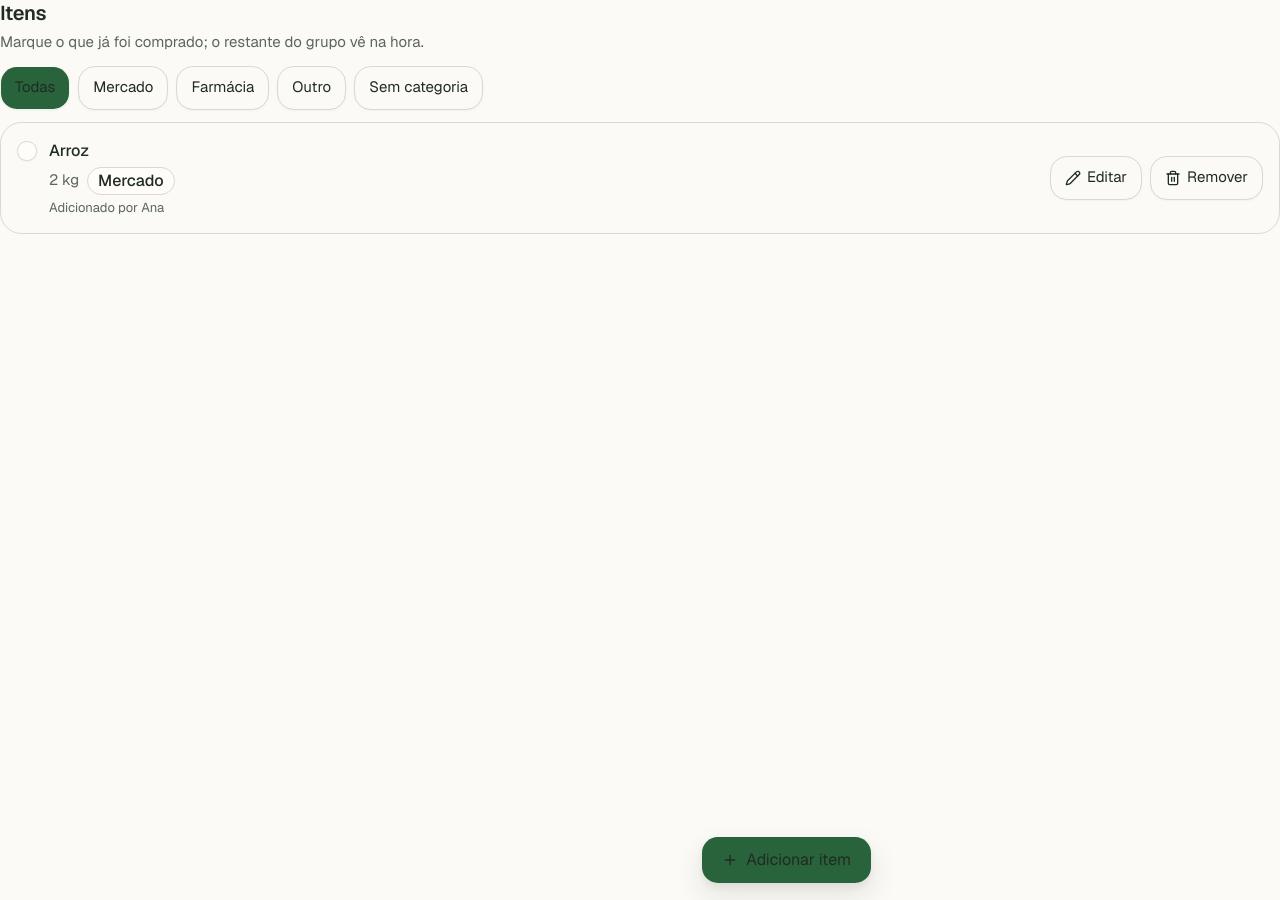
Test case: ListItemsPanel › keeps edit feedback mounted and rolls back a category change under an active filter
Click the button "Mercado": (123, 88) x1=78 y1=66 x2=168 y2=110
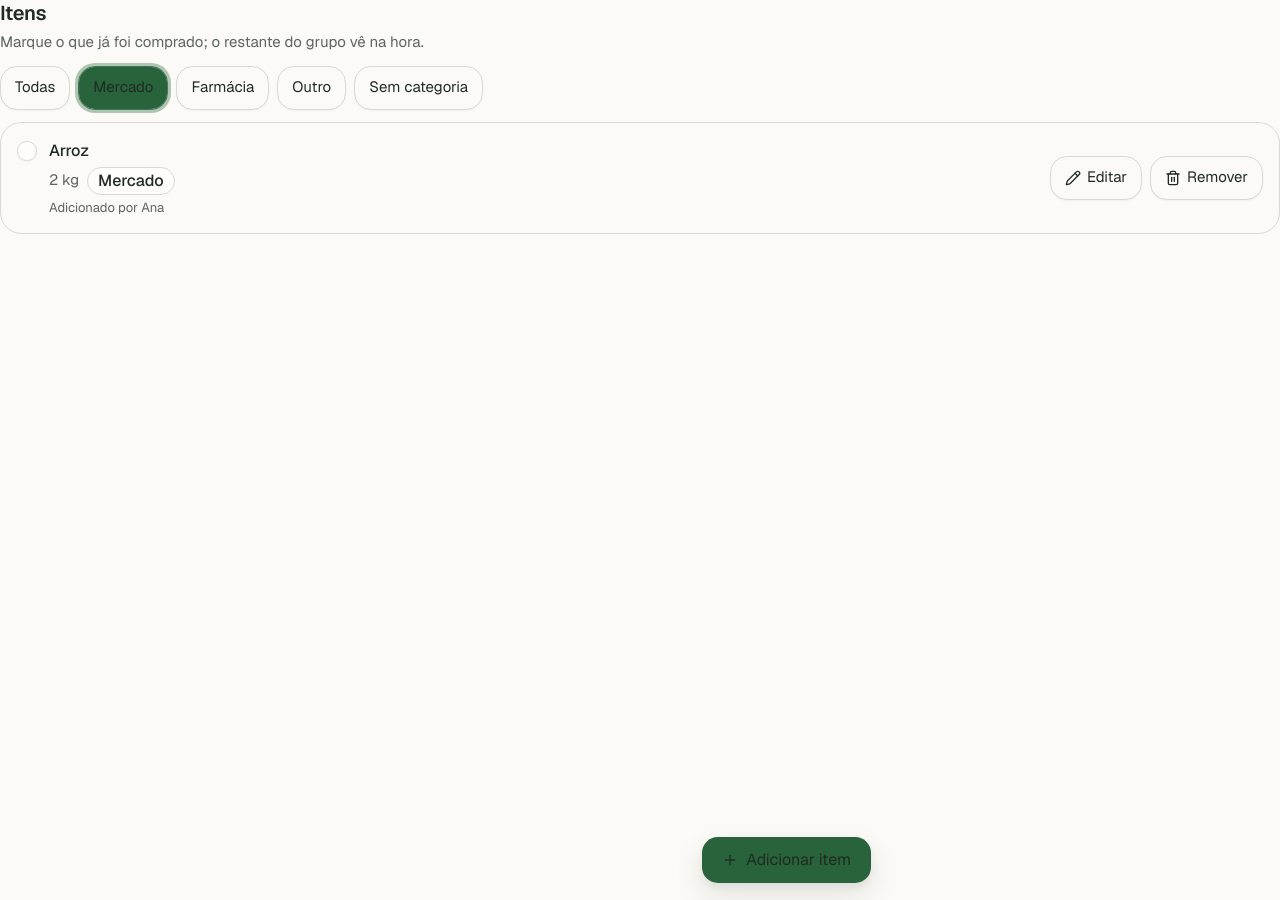
Click the button "Editar": (1096, 178) x1=1050 y1=156 x2=1142 y2=200
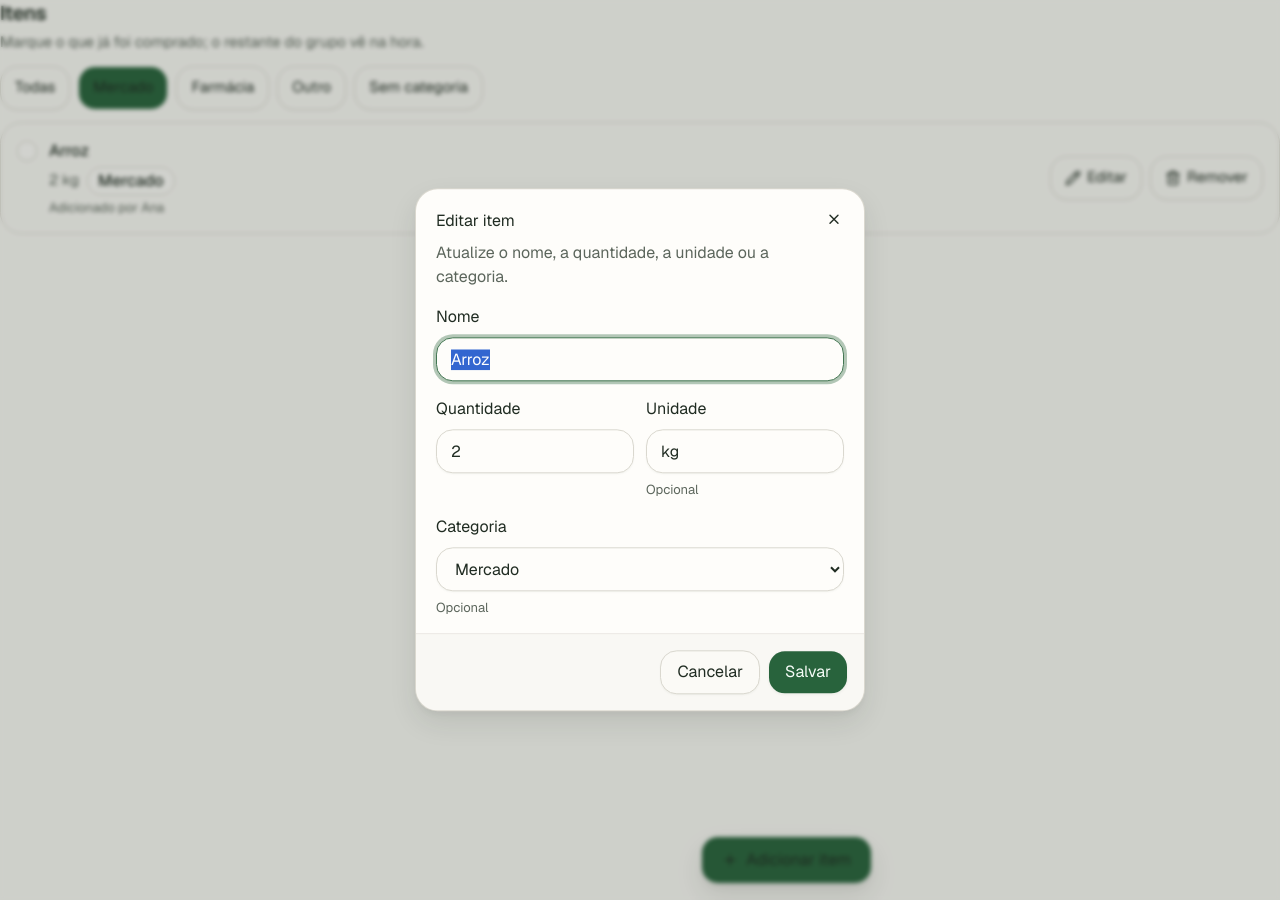
Select "Farmácia" in the dropdown labelled "Categoria": (640, 570) x1=436 y1=548 x2=844 y2=592
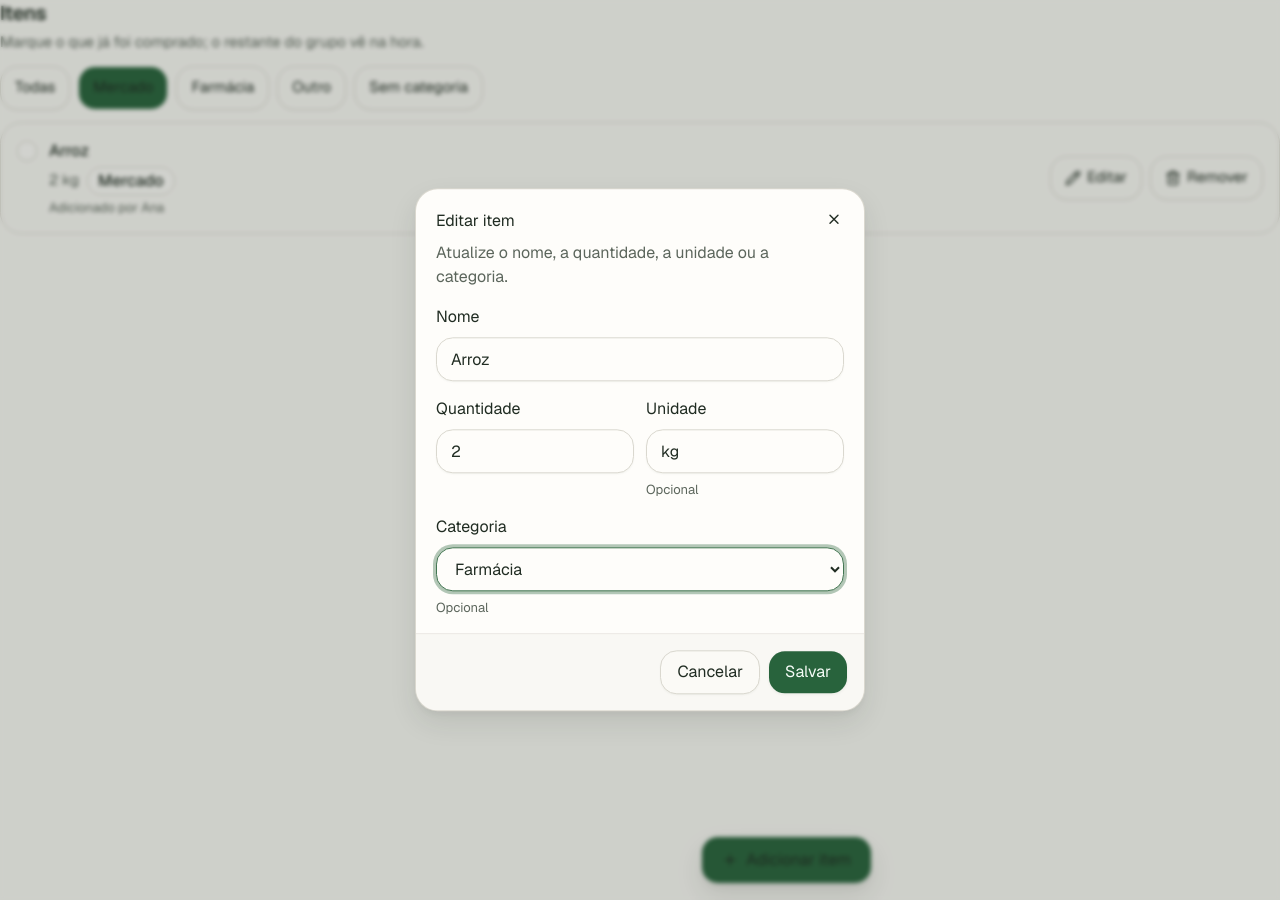
Click the button "Salvar": (808, 673) x1=768 y1=651 x2=848 y2=695
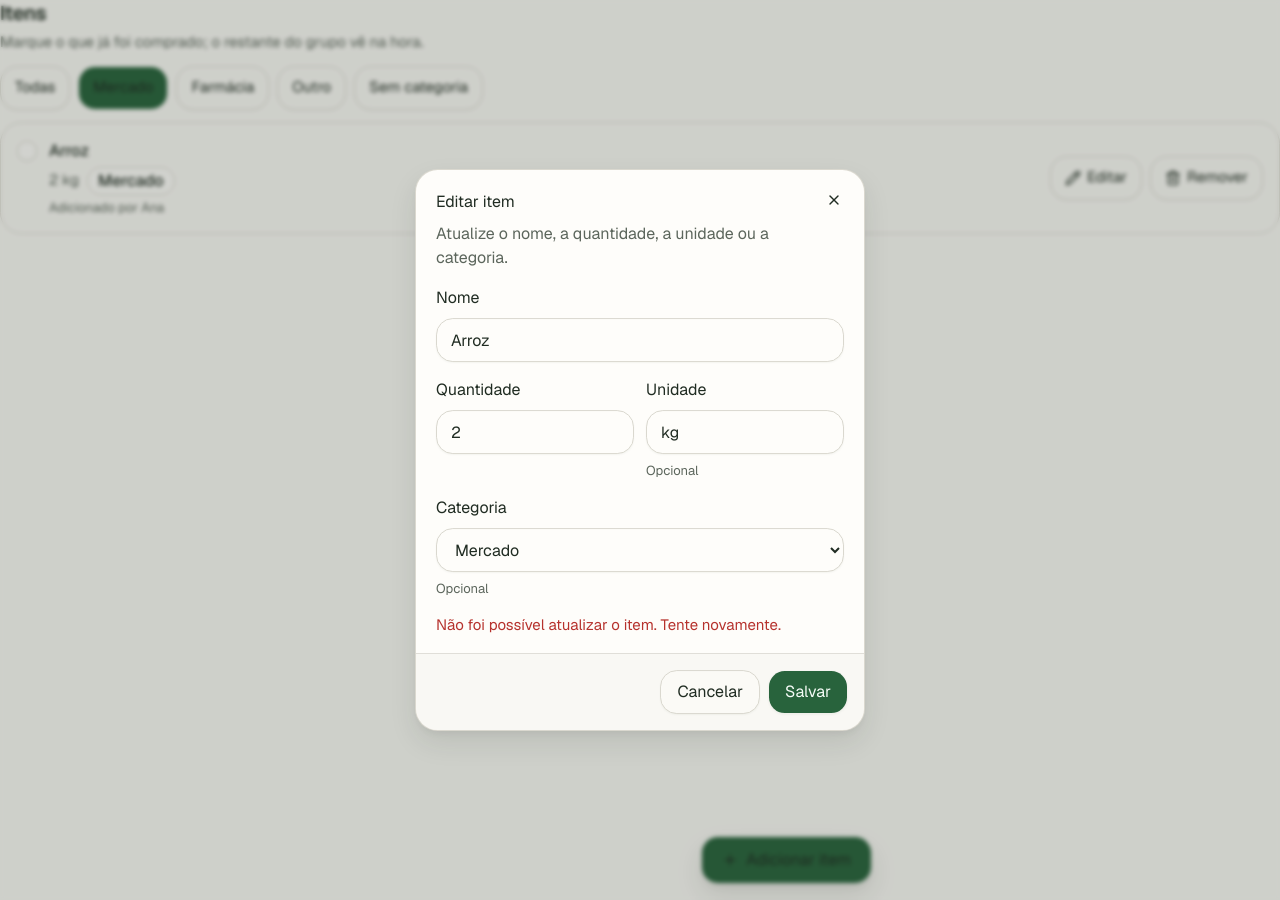
Expected: the text "Arroz" is shown, x1=49 y1=140 x2=89 y2=160
Expected: the dialog is shown, x1=416 y1=170 x2=864 y2=730
Expected: the dialog shows "Não foi possível atualizar o item. Tente novamente.", x1=436 y1=615 x2=781 y2=634
